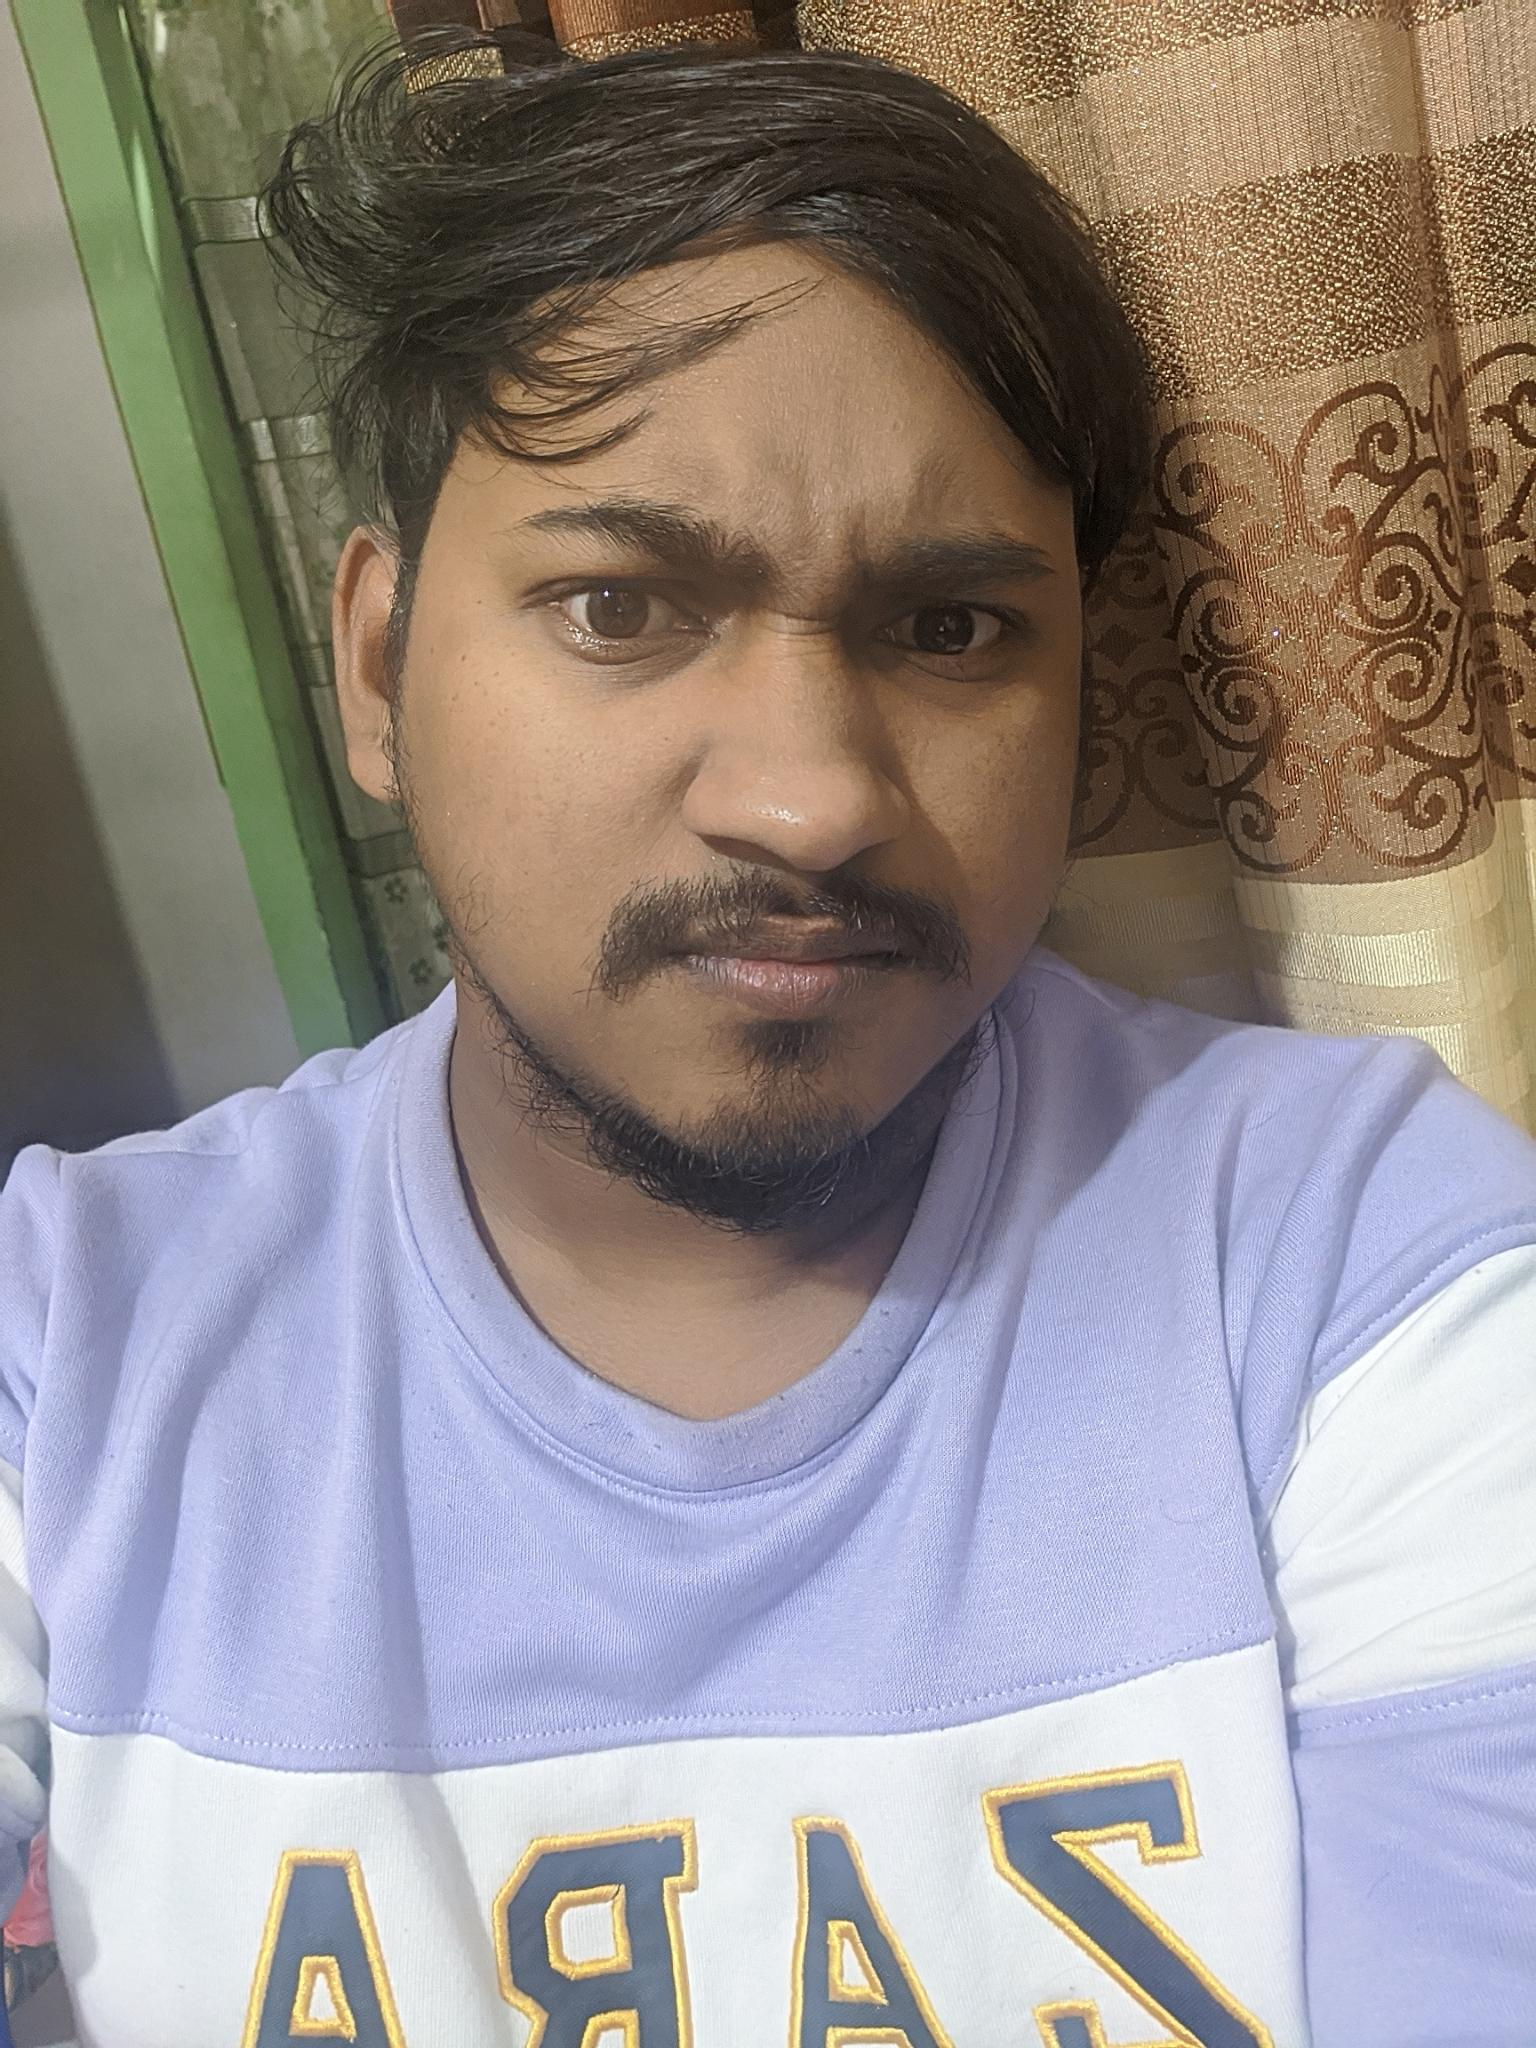Angry: (432, 419, 1092, 1192)
